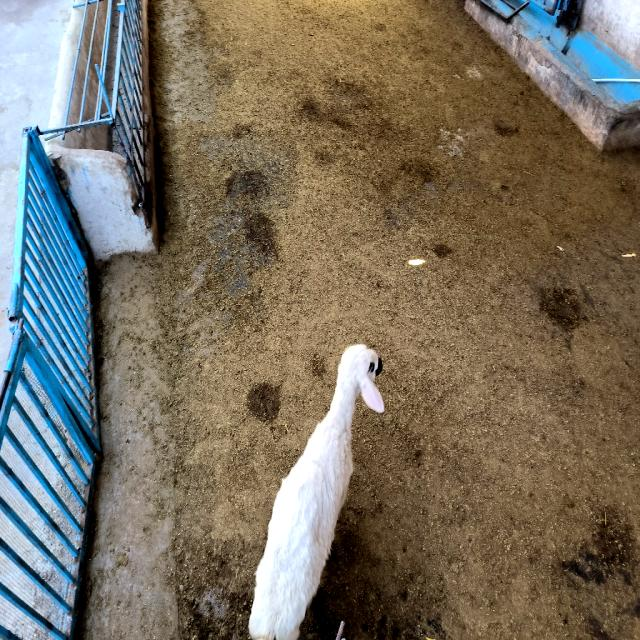sheep: (249, 345, 384, 638)
